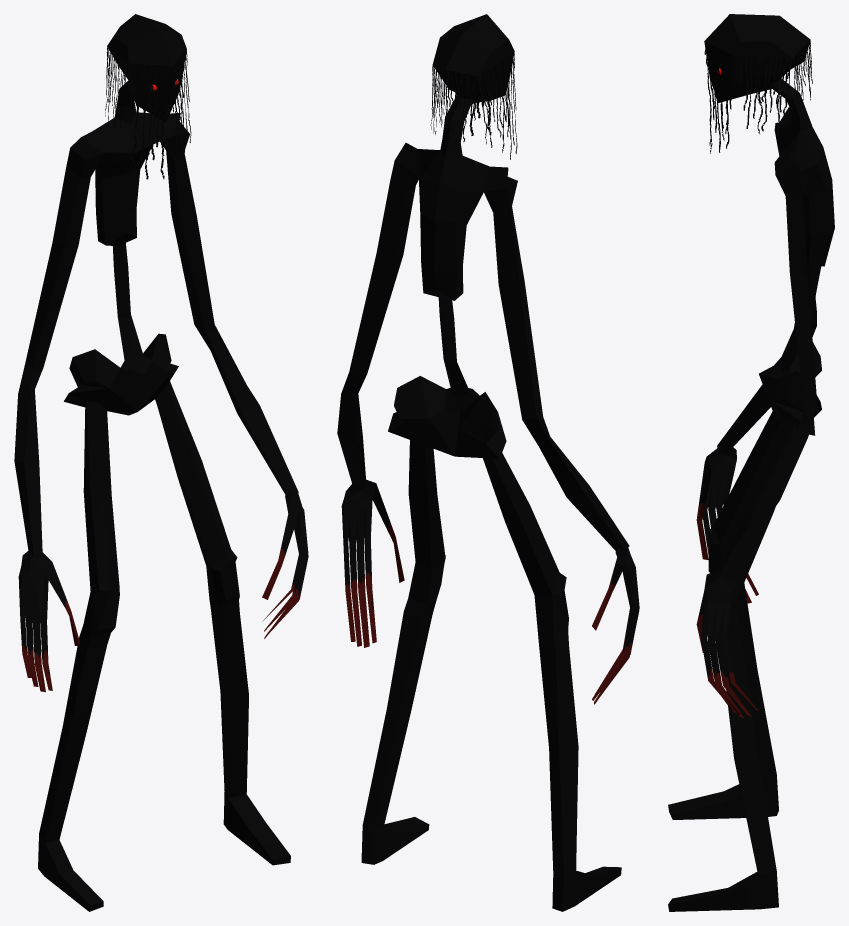
Rendered from Monster.fbx.
The picture shows the model from 3 angles, left to right: view 1: azimuth 30°, elevation 25°; view 2: azimuth 150°, elevation 25°; view 3: azimuth 270°, elevation 25°; orthographic projection. The views are drawn at different scales.
Parts seen in each view (by area): view 1: pSphere2; view 2: pSphere2; view 3: pSphere2.
Boxes of the visible parts, left/top/right/bottom form: pSphere2: left=14, top=14, right=308, bottom=911; pSphere2: left=337, top=14, right=639, bottom=911; pSphere2: left=668, top=14, right=834, bottom=911.
Size of the model in its own units: 21.91 by 61.02 by 10.89.
Materials: 1 (1 with a texture image).
